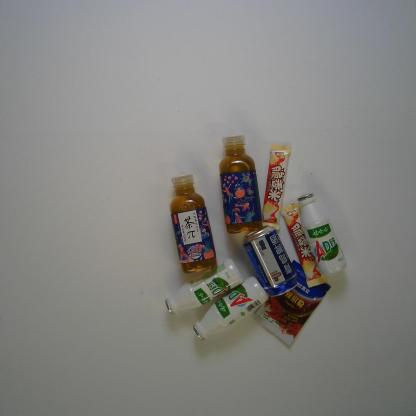Alcohol: (241, 224, 298, 298)
Chocolate: (281, 202, 329, 288), (261, 141, 292, 231)
Drink: (168, 172, 218, 274), (219, 134, 264, 235)
Milk: (192, 276, 270, 341), (164, 256, 244, 316), (297, 192, 347, 277)
Seasoner: (254, 258, 333, 346)
